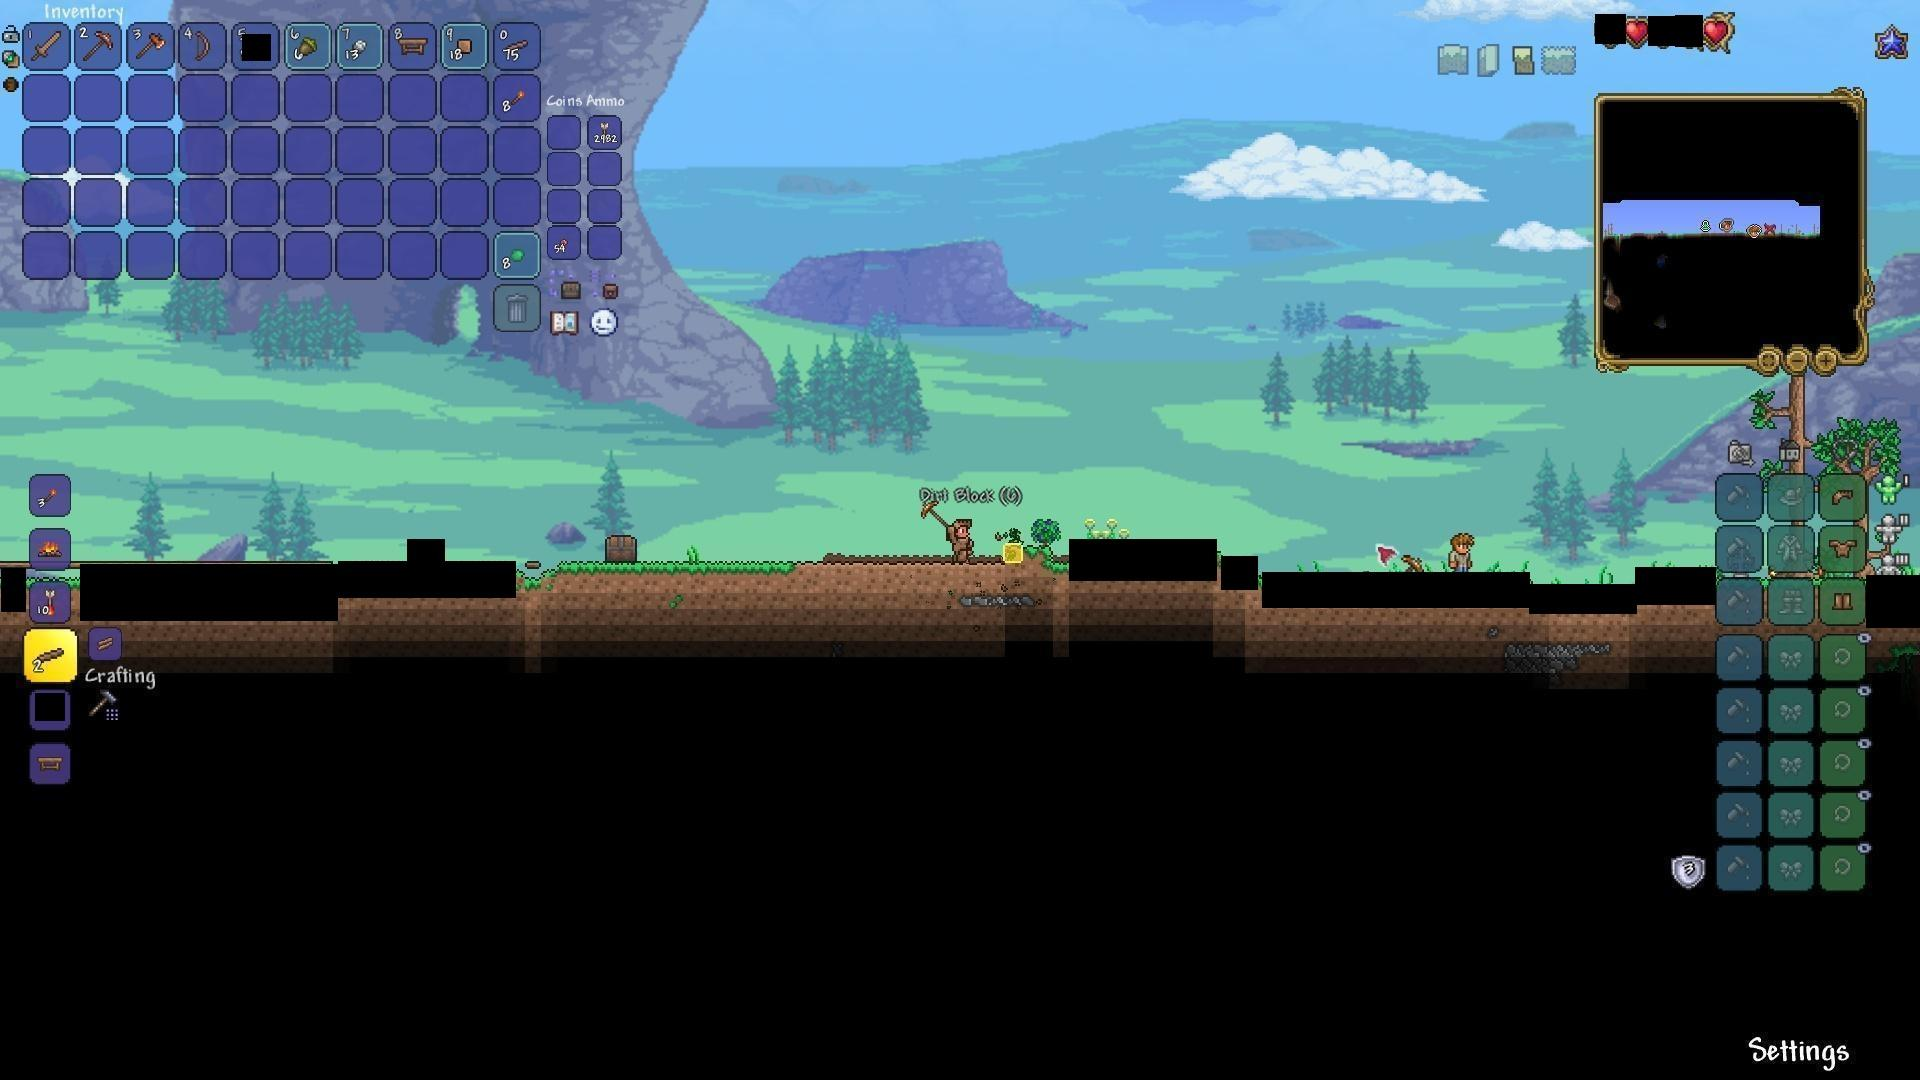breastplate: (1829, 538, 1859, 558)
dirt: (534, 559, 800, 597)
heart: (1704, 16, 1731, 47), (1625, 17, 1651, 46)
helmet: (1828, 485, 1857, 512)
legs: (1832, 588, 1855, 616)
wood: (88, 628, 120, 658)
workbench: (394, 33, 431, 58), (36, 752, 67, 775)
